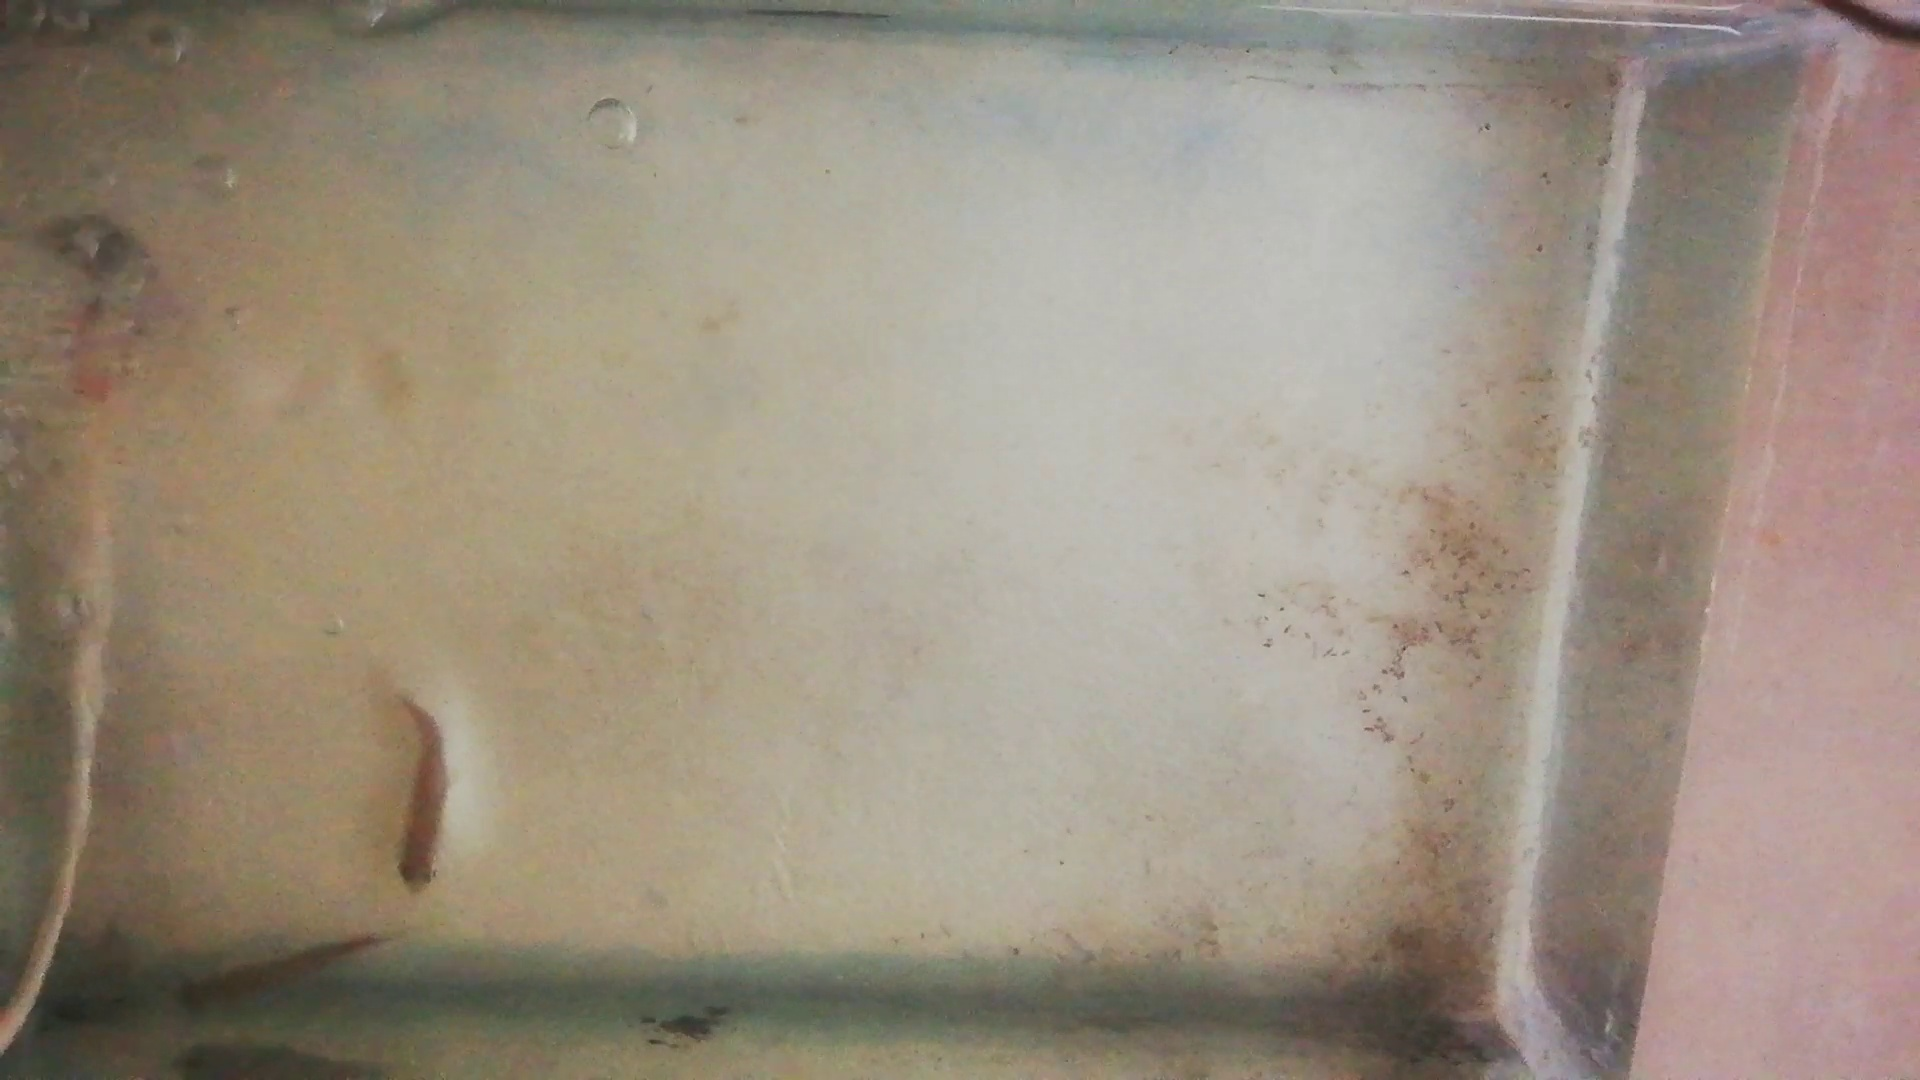fish: (177, 935, 372, 1006), (396, 698, 451, 898)
